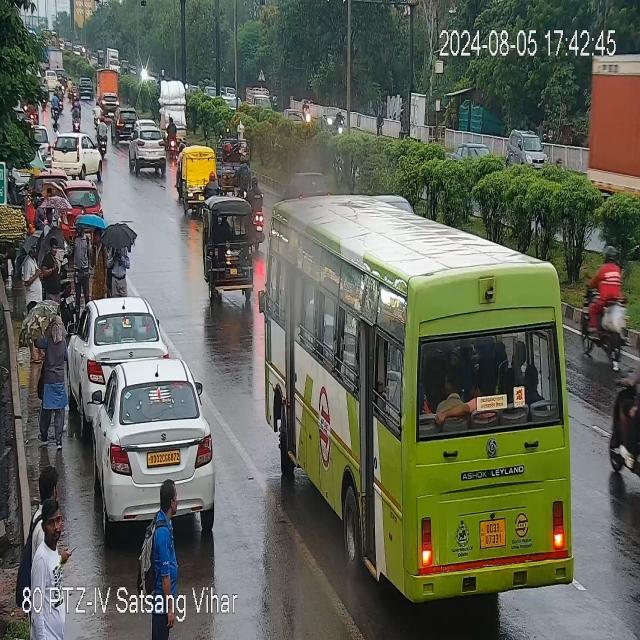2-wheelers: (581, 248, 629, 358), (236, 154, 267, 254), (66, 79, 84, 130), (49, 87, 63, 127)
auto: (201, 199, 254, 301), (615, 337, 640, 493), (180, 150, 219, 212)
bus: (267, 203, 580, 603)
car: (80, 358, 216, 520), (73, 298, 164, 398), (48, 132, 102, 174), (507, 128, 550, 170), (127, 133, 168, 172), (68, 179, 102, 218), (114, 108, 140, 142)
pedestrian: (23, 466, 82, 640), (137, 488, 189, 640), (34, 298, 69, 433), (95, 226, 134, 296), (69, 223, 97, 303), (21, 243, 44, 306)
truck: (583, 54, 640, 206), (156, 84, 190, 142), (92, 68, 120, 108)
